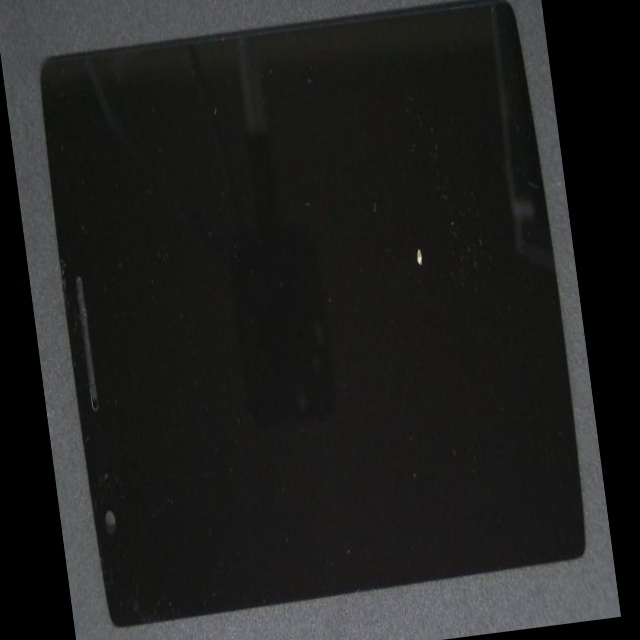stain: (192, 84, 599, 491)
